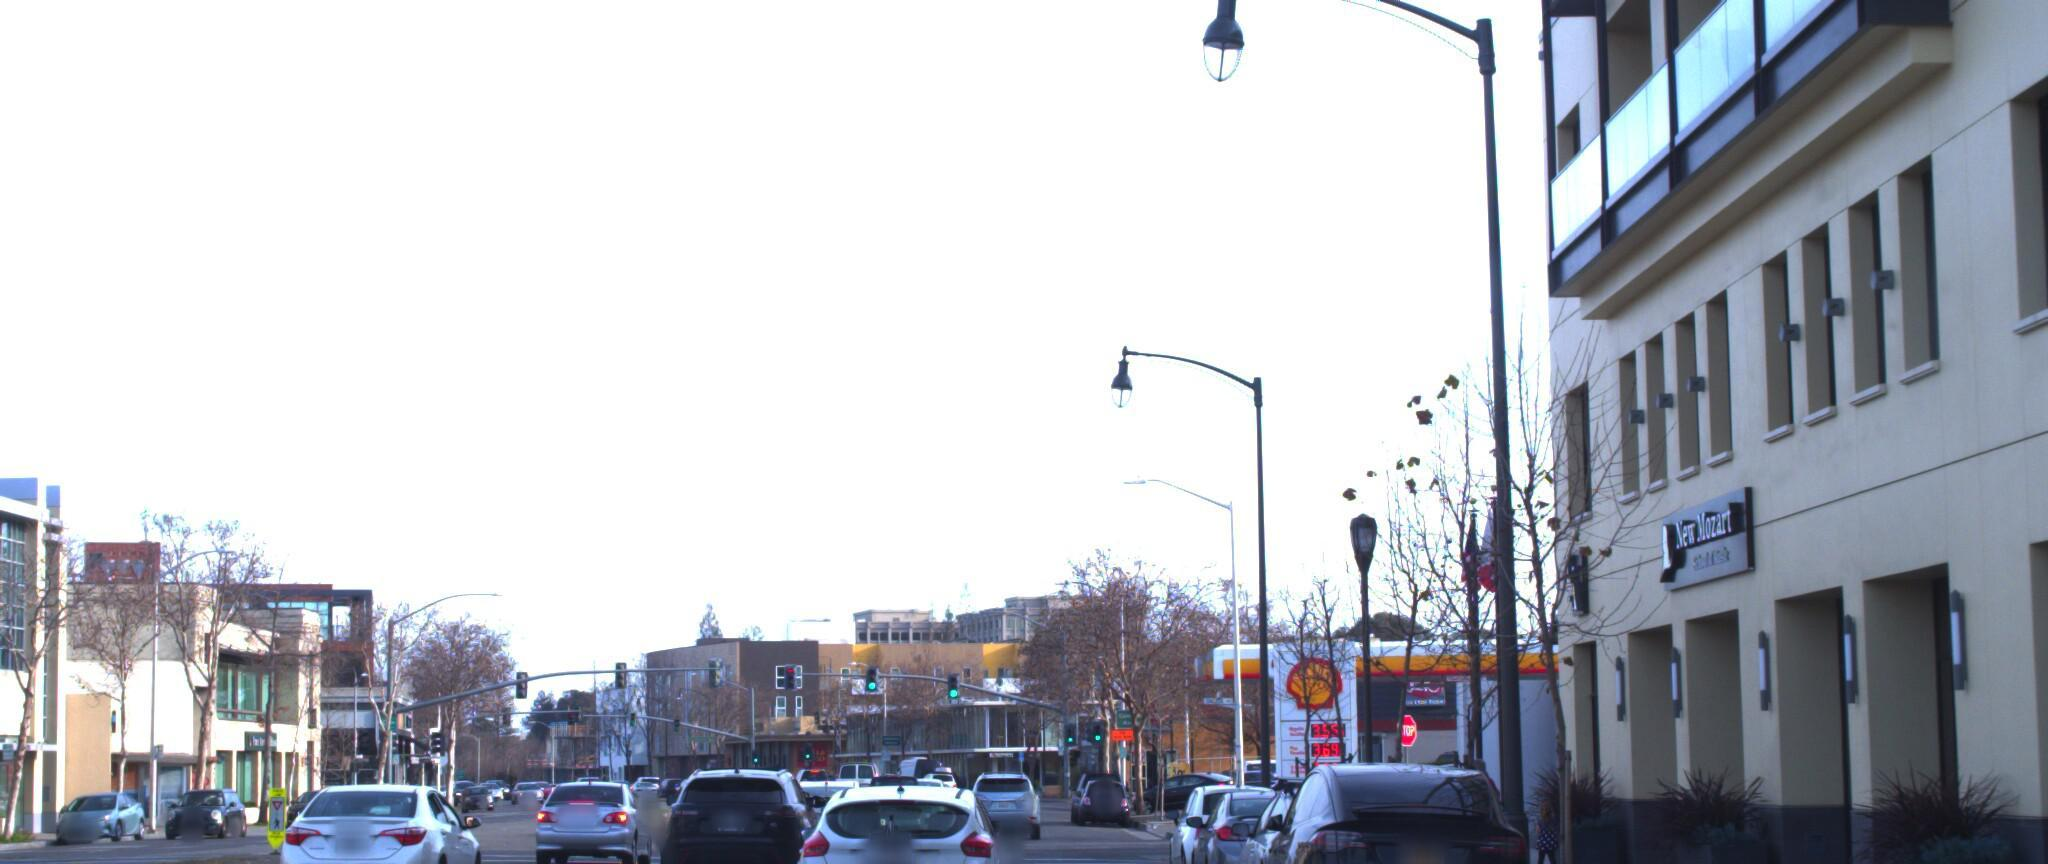car: (1256, 760, 1543, 864), (263, 760, 490, 864), (782, 770, 1010, 864), (656, 747, 824, 864), (1185, 783, 1348, 864), (1161, 775, 1297, 864), (520, 784, 656, 864), (959, 764, 1040, 835)
